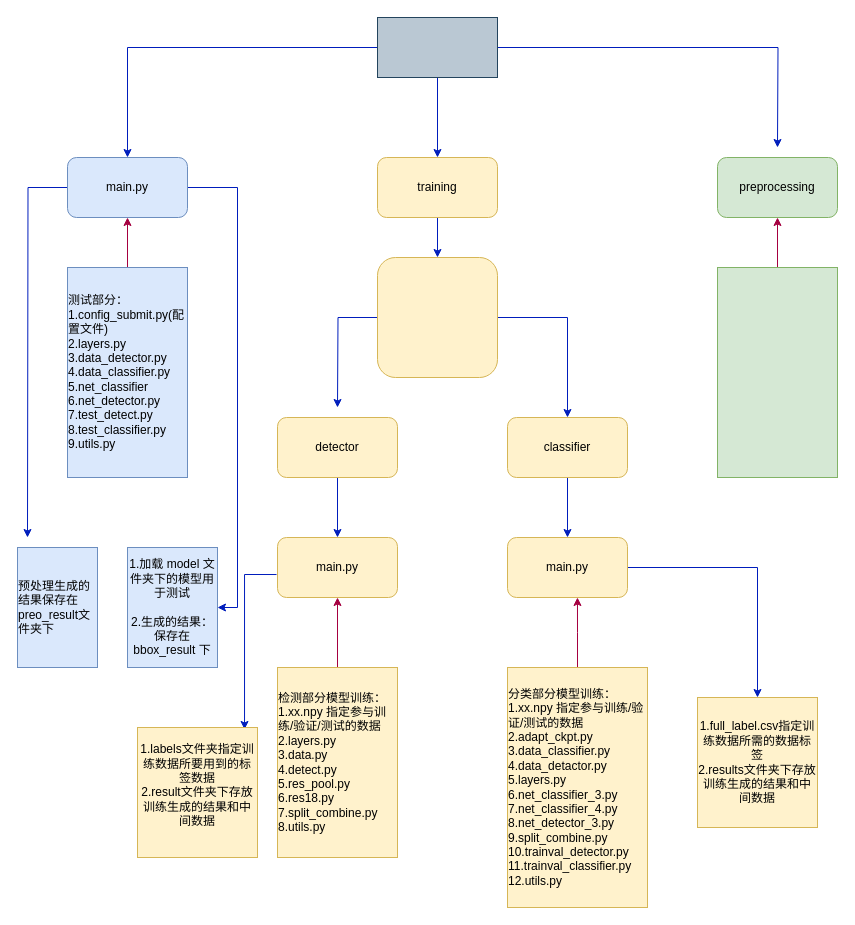
Image size: 855x925. Some labels were removed from this diagram. Each missing label, with the box of its shape:
1.config_training.py为配置文件，准备运行的环境路径 2.run_training.sh脚本文件控制训练的过程: (376, 256, 498, 378)
root: (376, 16, 498, 78)
预处理部分： 1.full_prep.py / step1.py 组成一个预处理的单元模块，供其他代码模块调用: (716, 266, 838, 478)
